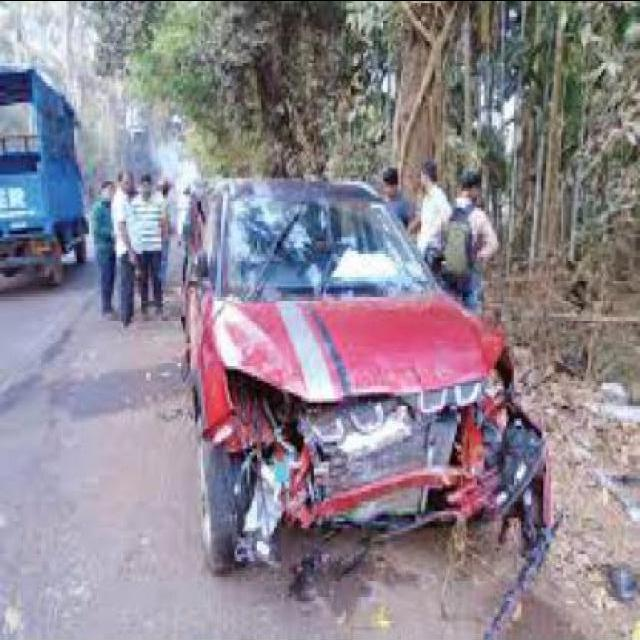front-bumper-dent: (177, 369, 595, 561)
